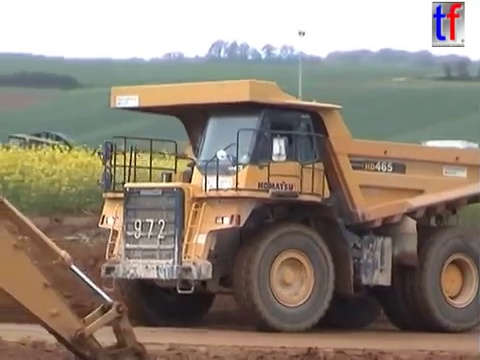excavator: (1, 193, 151, 360)
truck: (93, 74, 479, 337)
